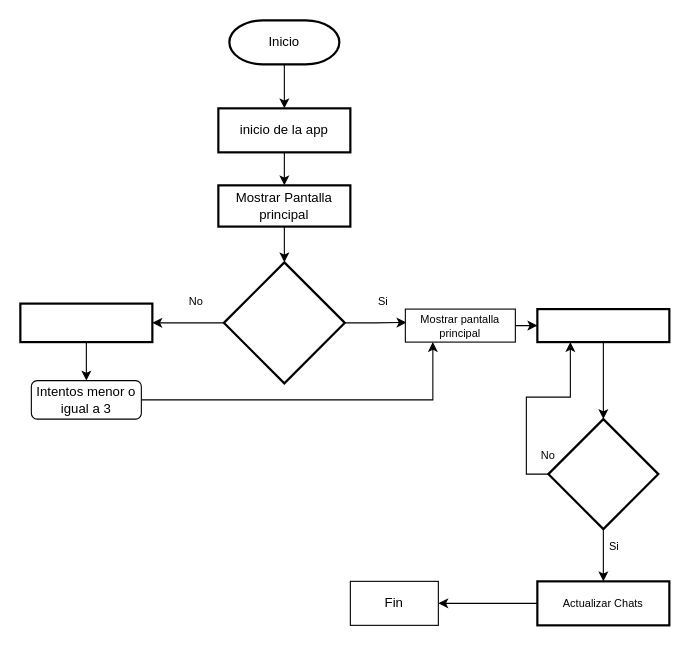
This 689x645 diagram has some shape labels left out. Each missing label, with the box of its shape:
Hay conexión?: (547, 417, 659, 530)
Hay una conexión a internet?: (222, 261, 345, 384)
Pedir al usuario una conexión al internet: (19, 302, 153, 343)
Solicitar Conexión al servidor: (536, 307, 670, 343)
